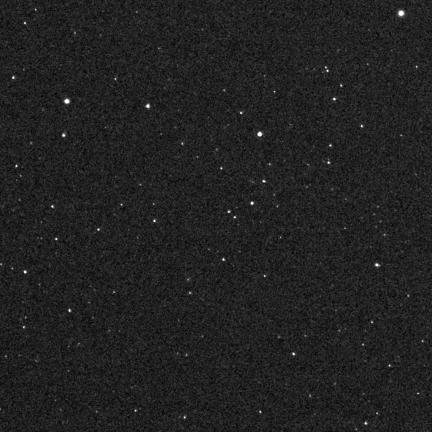blob: (64, 99, 70, 104), (258, 132, 262, 137)
